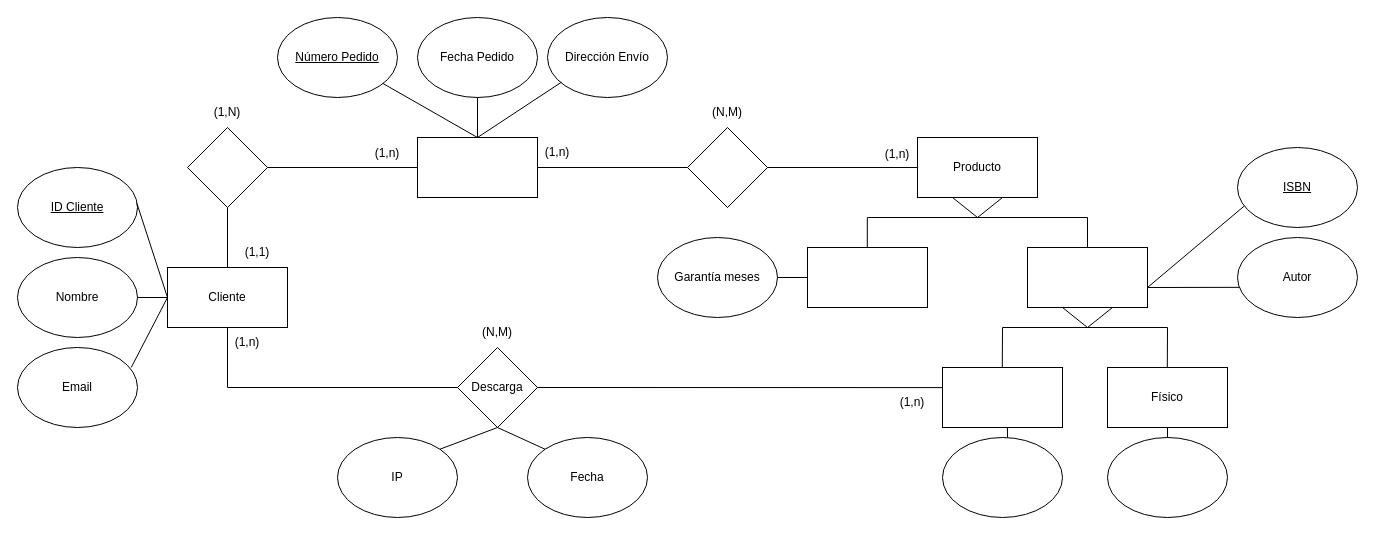
Some shapes in this 1375 by 535 pixel diagram are drawn without their labels. The shapes that lost their labels are listed below. From the top down, each one's centre as x and y in pixels, then its label:
At point 227,167: "Realiza".
At point 477,167: "Pedido".
At point 727,167: "Contiene".
At point 867,277: "Electrónica".
At point 1087,277: "Libro".
At point 1002,397: "Digital".
At point 1002,477: "Formato Archivo".
At point 1167,477: "Peso".
